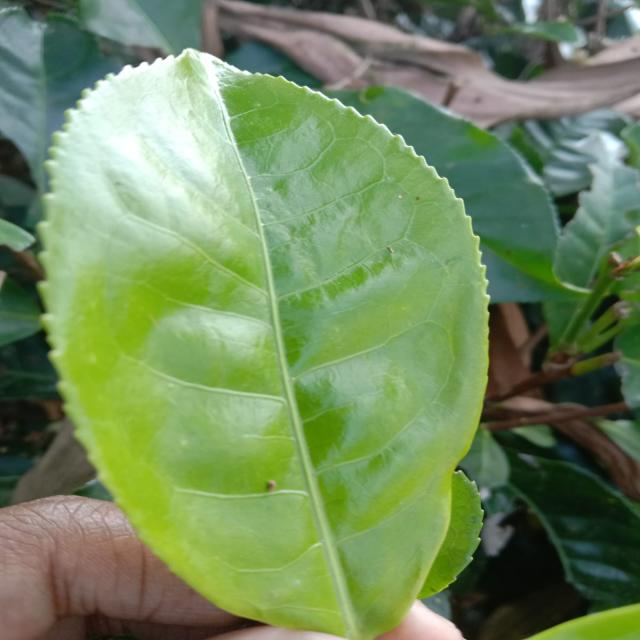Category B(2-4 days): (31, 39, 516, 637)
